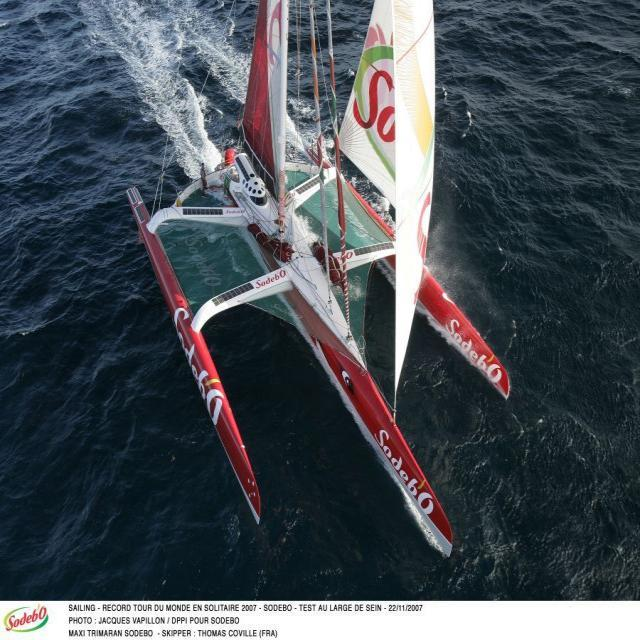Ship: (117, 1, 513, 550)
